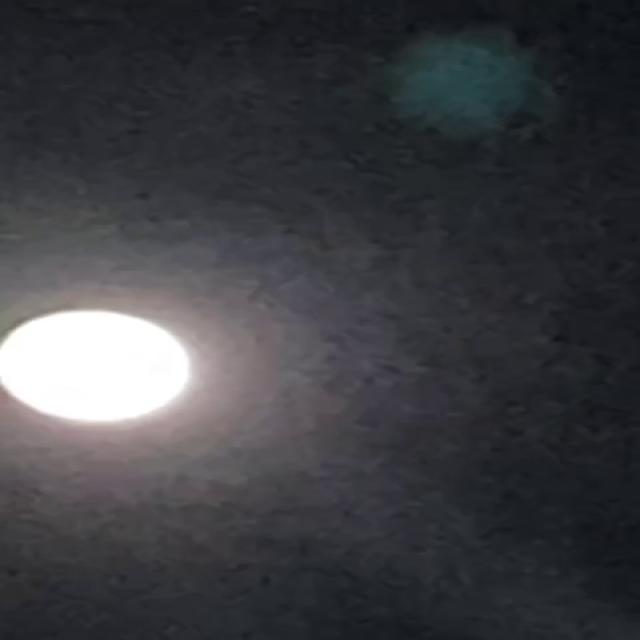moon: (0, 309, 230, 453)
